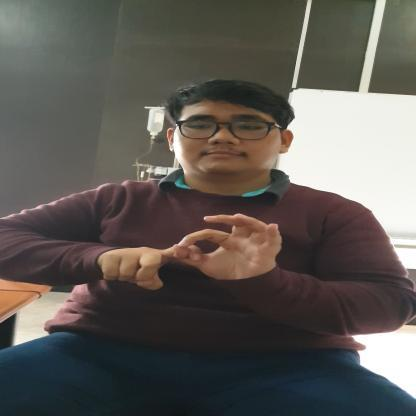Q: (100, 210, 284, 292)
